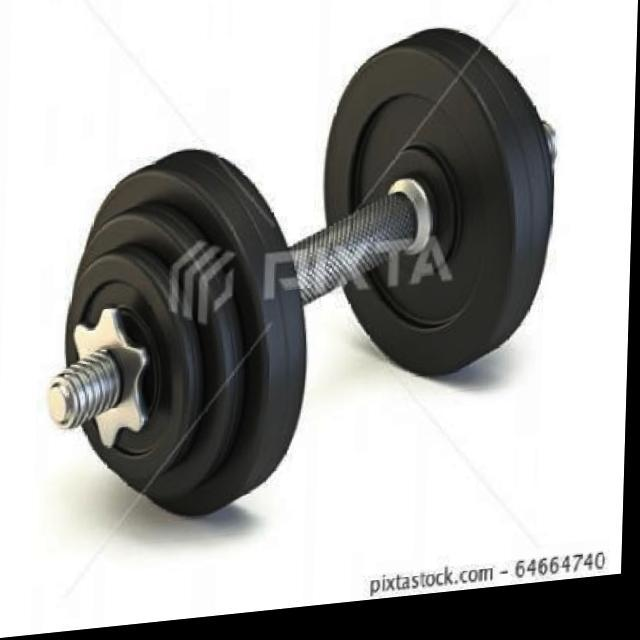barbell: (45, 145, 320, 543)
